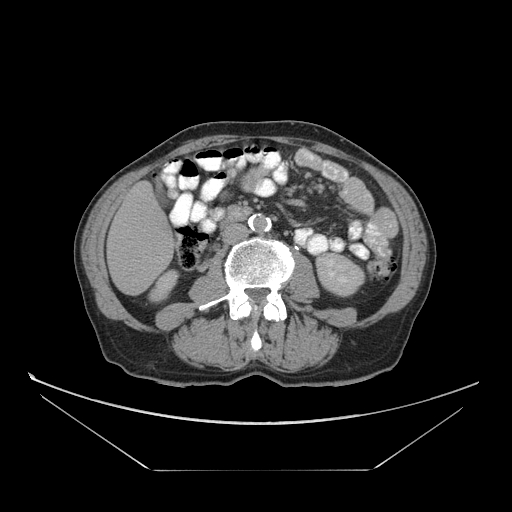left_kidney: (142, 267, 181, 307)
right_kidney: (308, 249, 371, 305)
